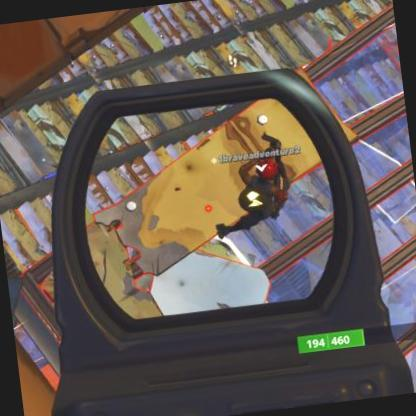person: (232, 147, 298, 244)
